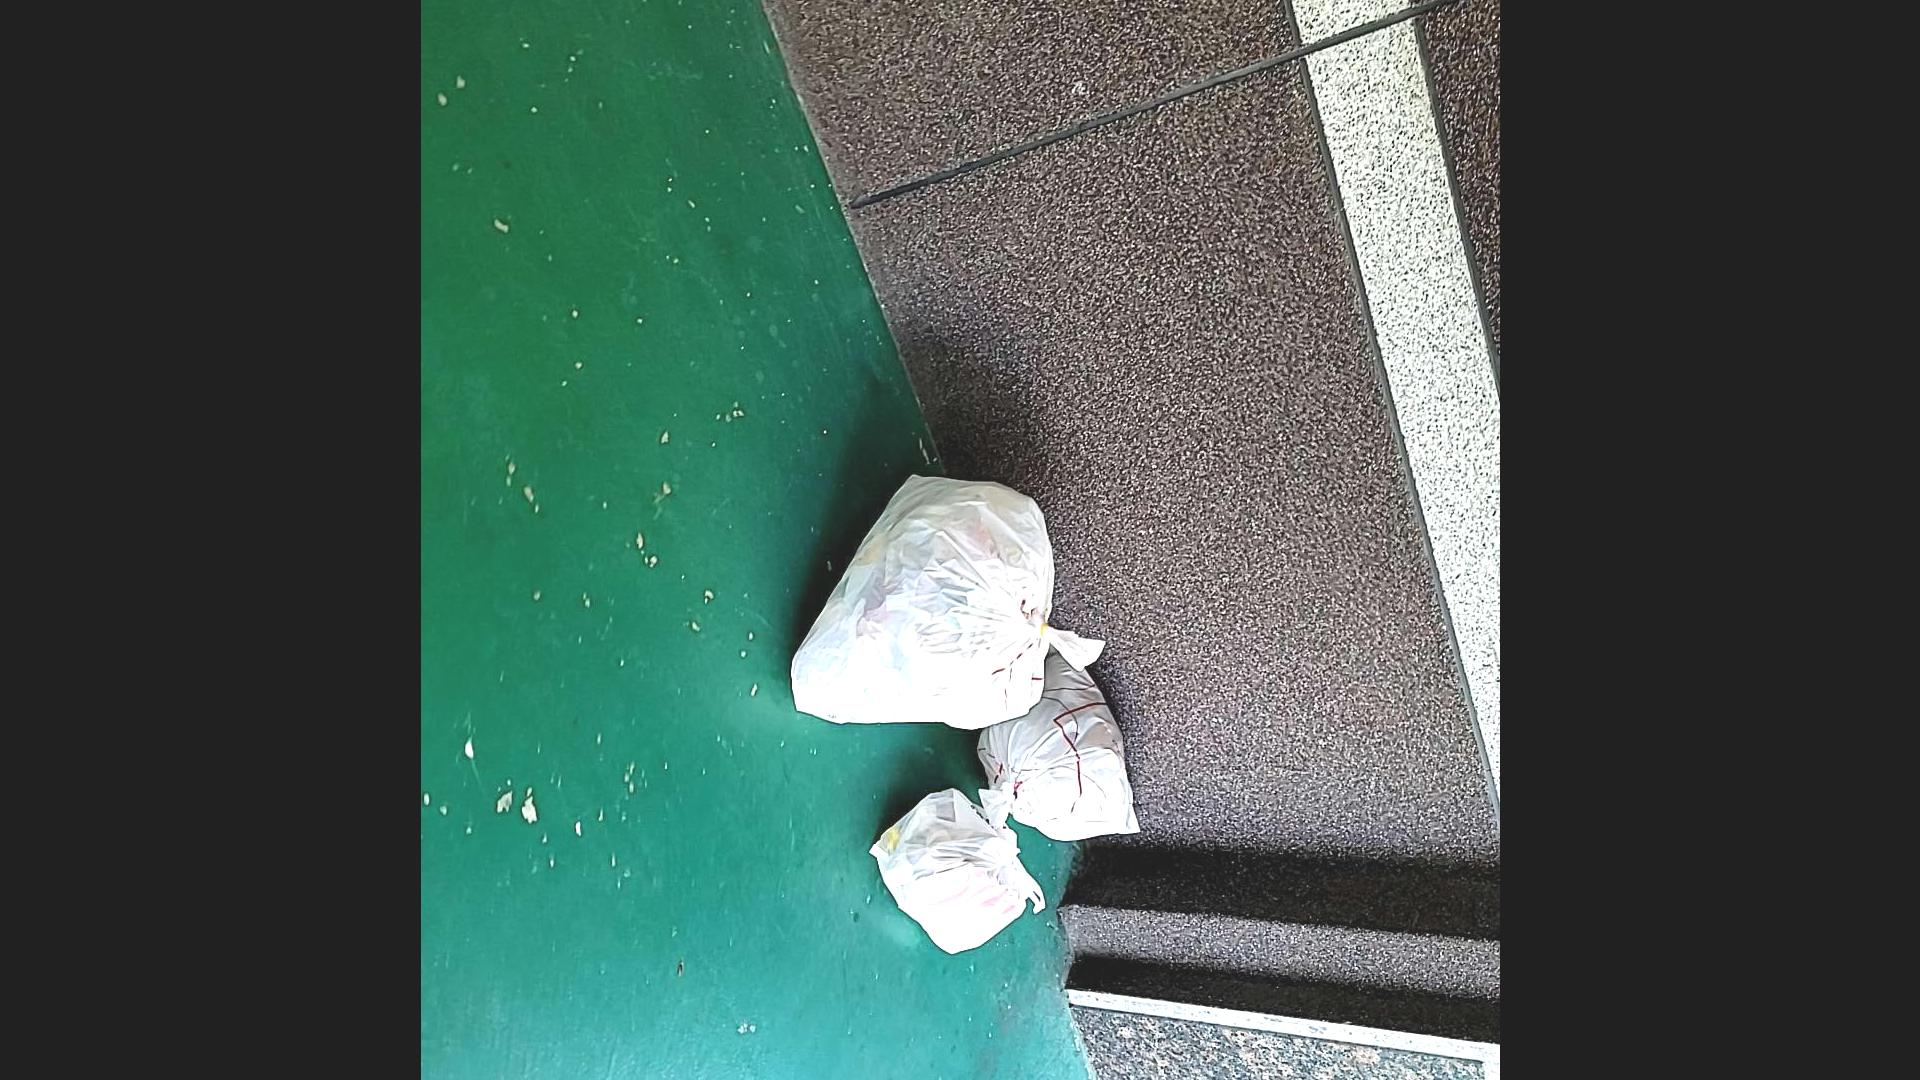white_bag: (778, 447, 1124, 738), (963, 640, 1158, 861), (862, 775, 1046, 967)
